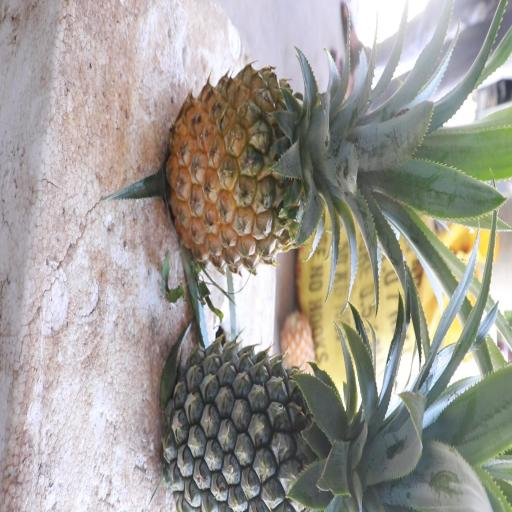Pineapple - v8 v1: (172, 61, 445, 262)
